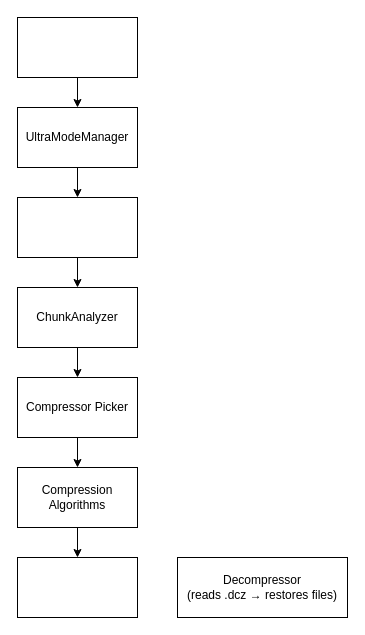
The diagram is 365 pixels wide and 635 high, and some of its shapes have lost their labels. The centre of each missing label's shape, as x and y in pixels:
"Archive Writer (.dcz)" belongs at [77,587].
"Chunk Scheduler" belongs at [77,227].
"WinForms UI" belongs at [77,47].
